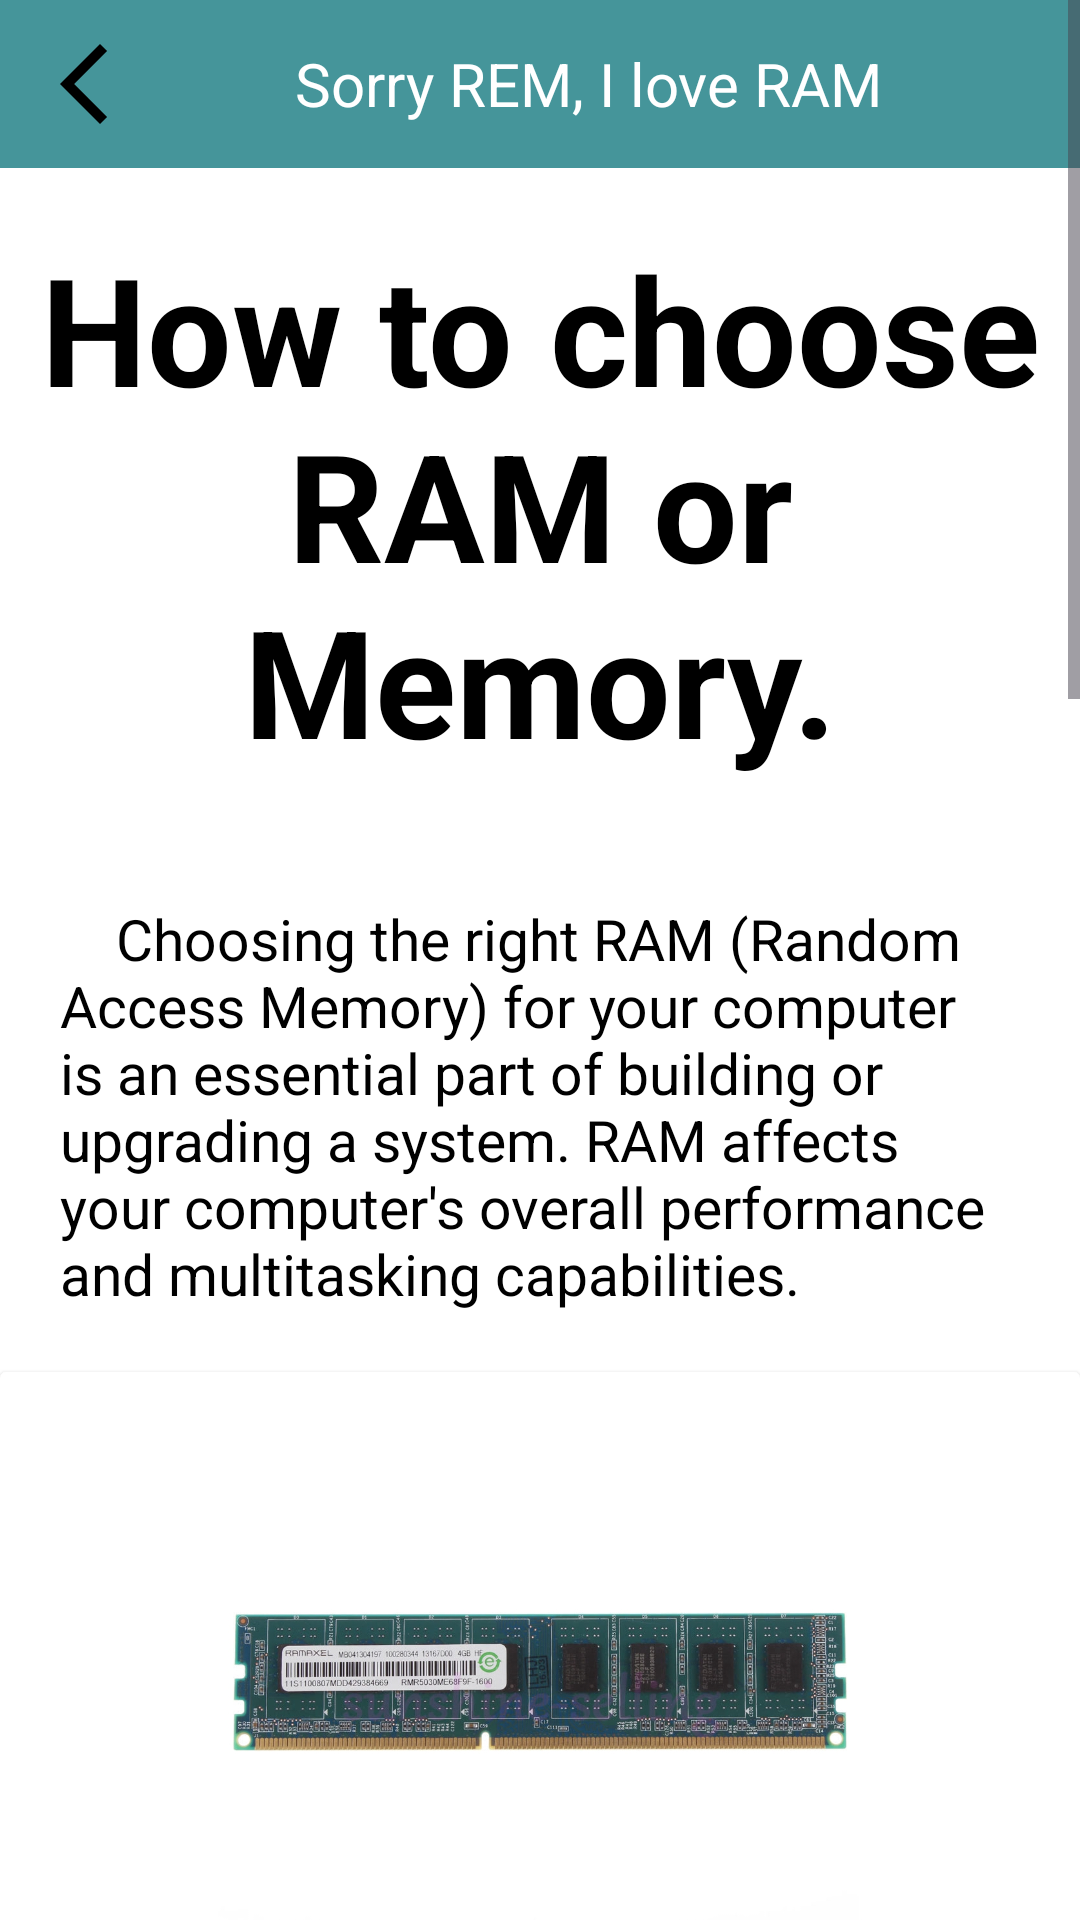

Named icons in this screenshot (1080px×1920px) and their centers, (x=x, y=y):
Back: (x=83, y=84)
